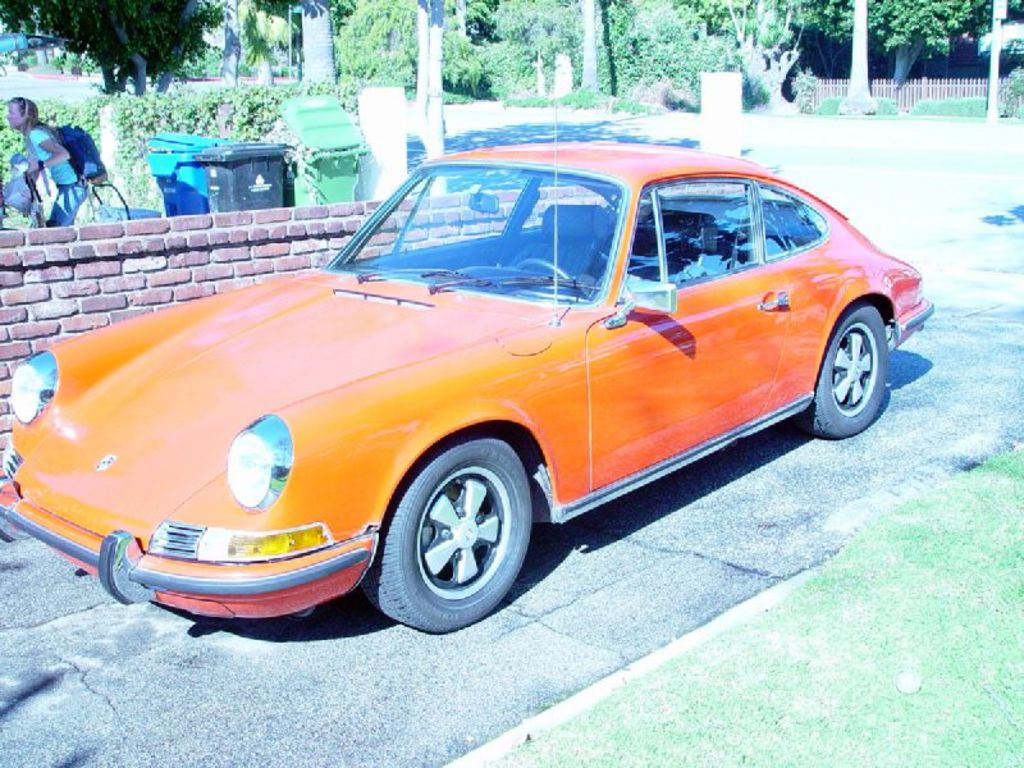Tree: (0, 0, 1024, 197)
